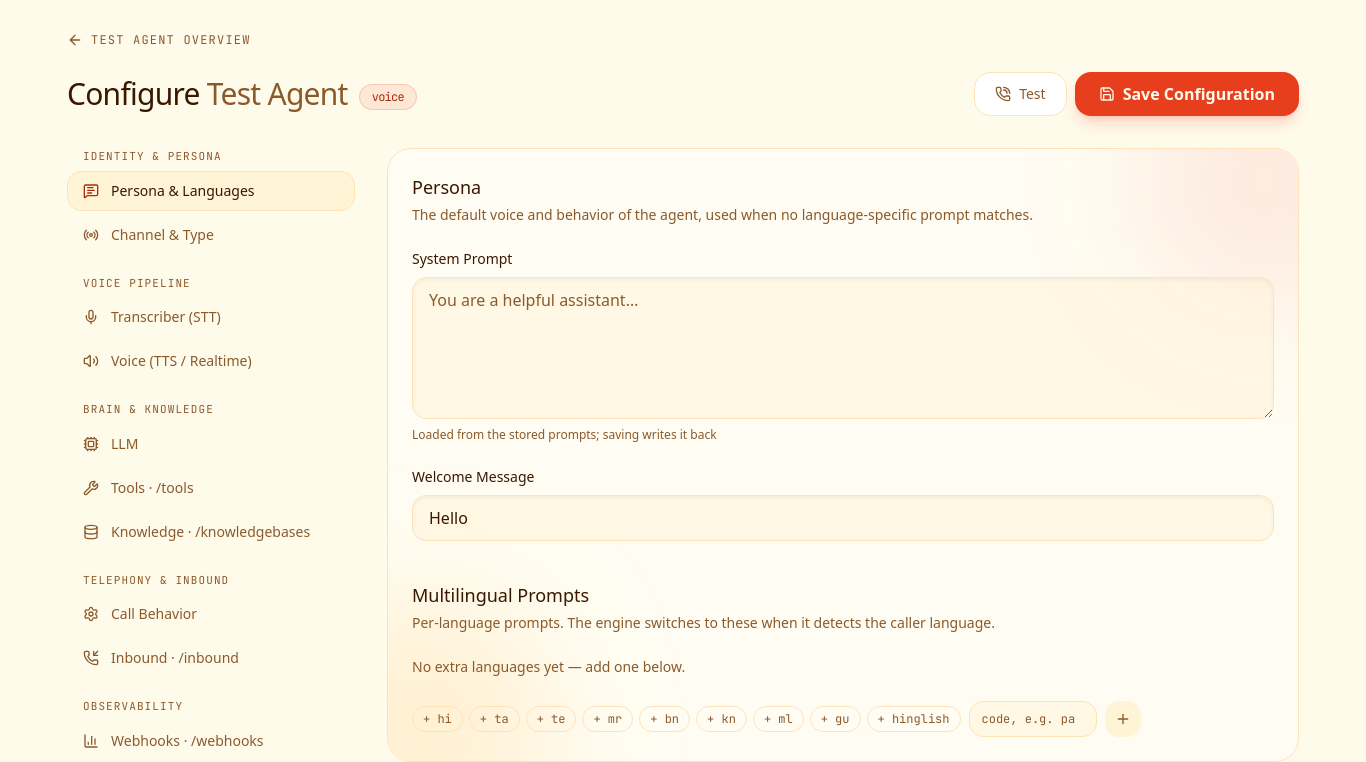
Test: AgentConfigurePage (Dev C: staged type/channels) › renders channel-allowlist rejections with the valid list
Expected: the text "voice" is shown, [359,84,417,110]
Click the button "Save Configuration": (1187,94) [1075,72,1299,116]
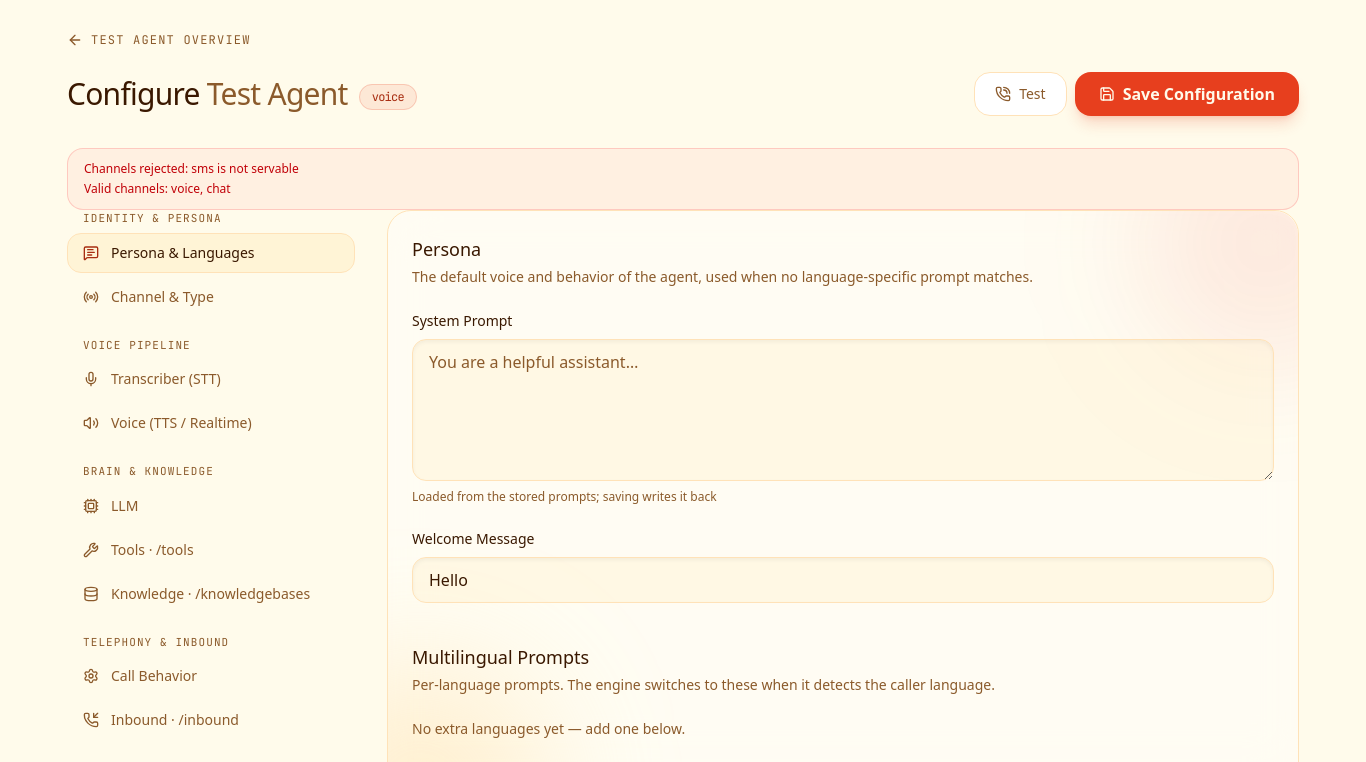
Expected: the text "Channels rejected: sms is not servable" is shown, [84,160,299,177]
Expected: the text "Valid channels: voice, chat" is shown, [84,180,231,197]
